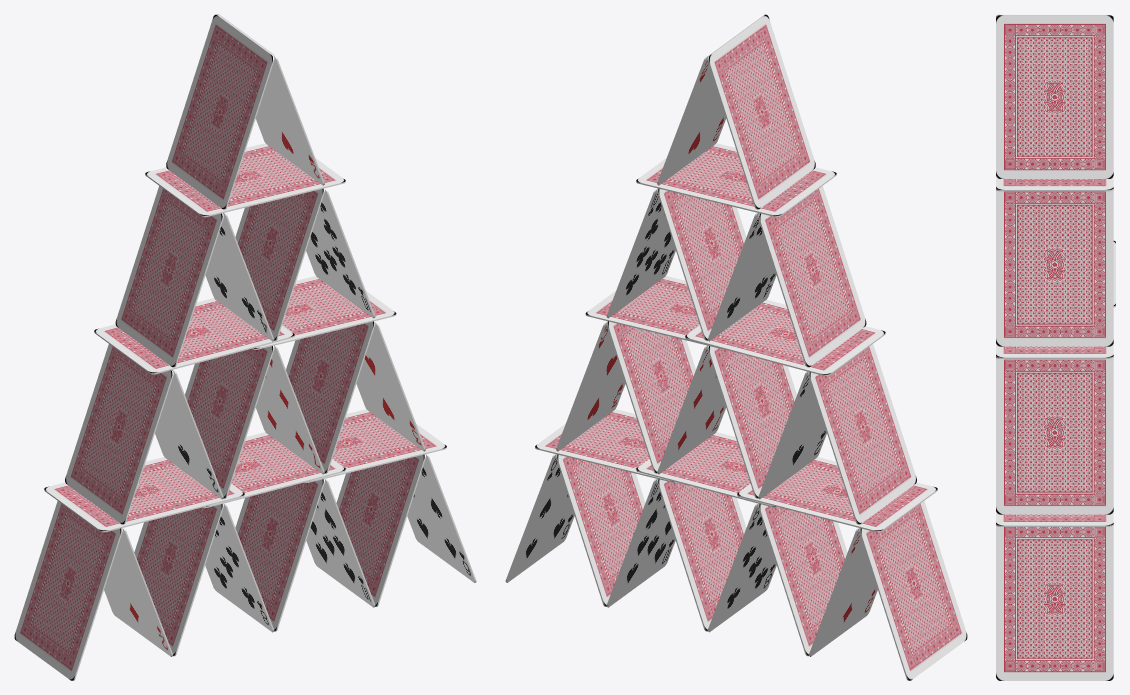
File: gustavorezende-cards-3715.glb
The picture shows the model from 3 angles, left to right: view 1: azimuth 30°, elevation 25°; view 2: azimuth 150°, elevation 25°; view 3: azimuth 270°, elevation 25°; orthographic projection.
Parts seen in each view (by area): view 1: Cards Castle; view 2: Cards Castle; view 3: Cards Castle.
Boxes of the visible parts, bbox=[...] form: Cards Castle: bbox=[14, 14, 476, 680]; Cards Castle: bbox=[505, 14, 967, 680]; Cards Castle: bbox=[996, 14, 1115, 680].
Size of the model in its own units: 0.2466 by 0.3361 by 0.0642.
Materials: 28 (27 with a texture image).
